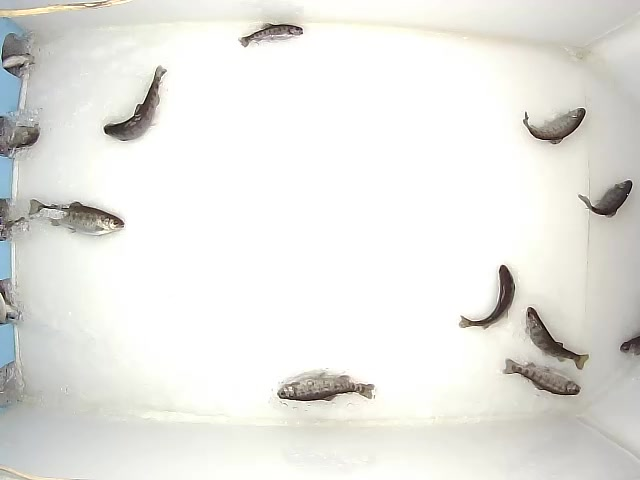fish: (101, 64, 172, 142), (455, 262, 519, 330), (525, 303, 591, 368), (503, 355, 587, 402), (24, 196, 127, 234), (277, 370, 376, 404), (520, 101, 588, 149), (572, 175, 636, 219), (236, 21, 305, 50)
